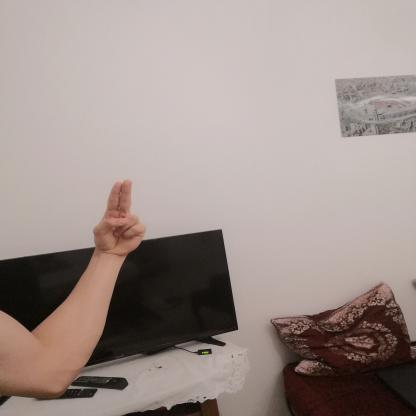TA: (84, 172, 150, 261)
